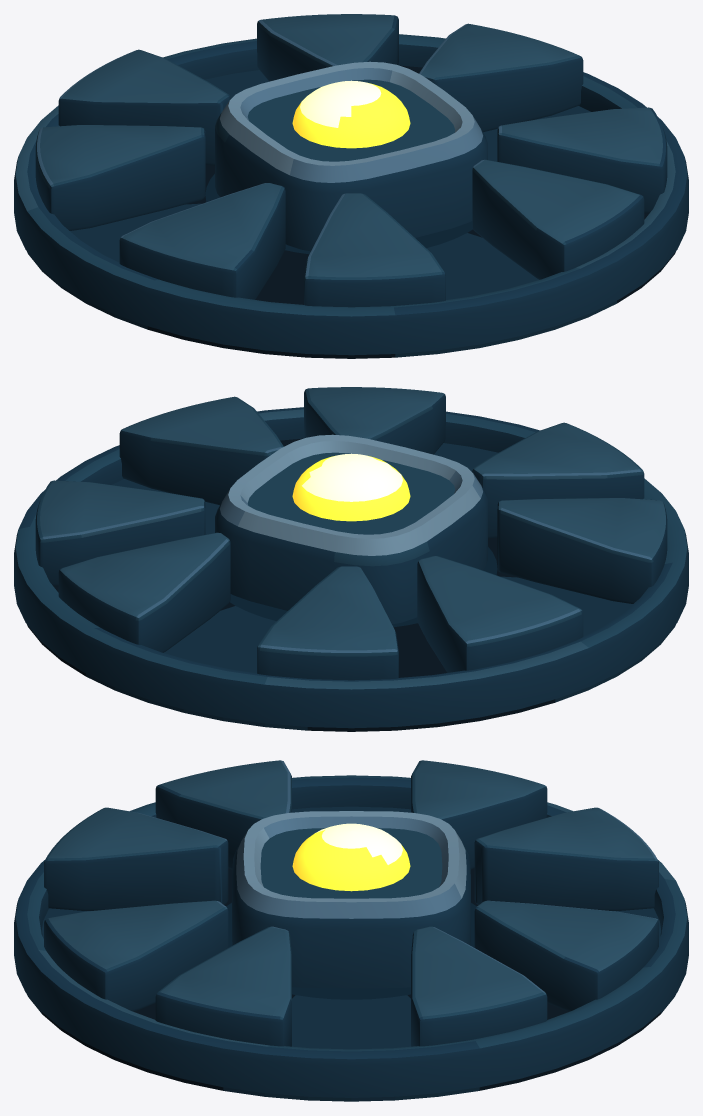
File: fruit_hex_pod_199.glb
3 renders of one model, top to bottom at view 1: azimuth 30°, elevation 25°; view 2: azimuth 150°, elevation 25°; view 3: azimuth 270°, elevation 25°, orthographic.
Parts seen in each view (by area): view 1: fruit_hex_pod_199; view 2: fruit_hex_pod_199; view 3: fruit_hex_pod_199.
Boxes of the visible parts, left/top/right/bottom form: fruit_hex_pod_199: left=14, top=14, right=688, bottom=358; fruit_hex_pod_199: left=14, top=387, right=688, bottom=731; fruit_hex_pod_199: left=14, top=760, right=688, bottom=1101.
Size of the model in its own units: 12.7 by 2.68 by 12.7.
